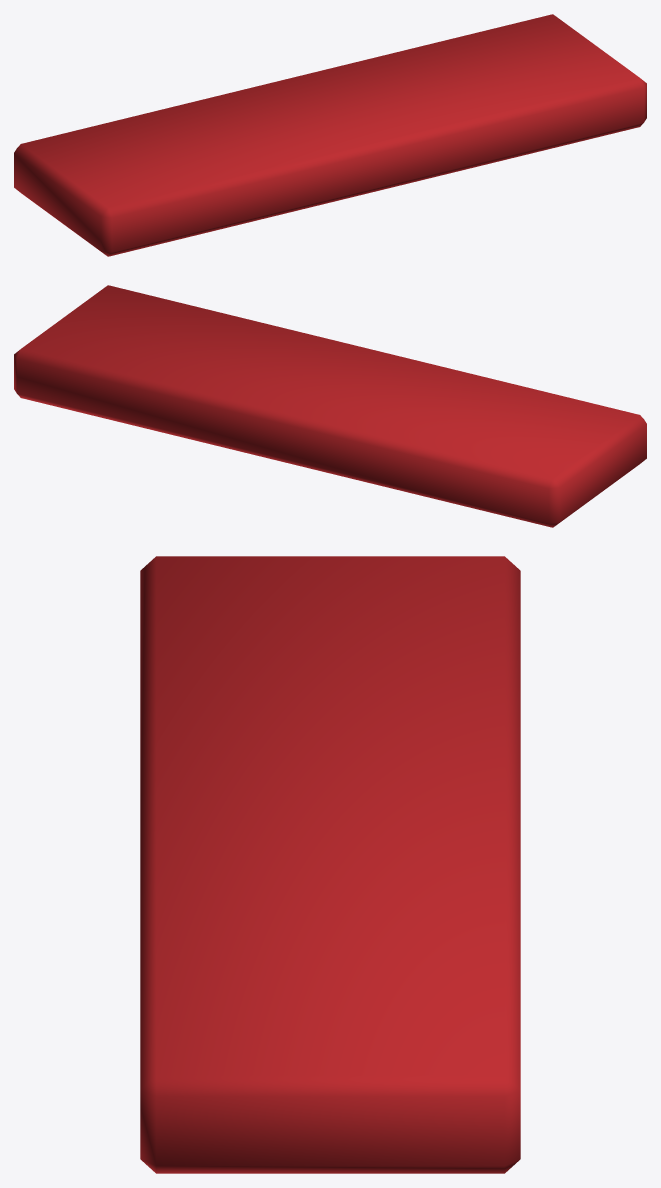
File: Almohadilla Roja.fbx
3 views of the same model, one above another, from view 1: azimuth 30°, elevation 25°; view 2: azimuth 150°, elevation 25°; view 3: azimuth 270°, elevation 25° (orthographic). The views are drawn at different scales.
Visible parts, largest first — view 1: Cube.092; view 2: Cube.092; view 3: Cube.092.
Boxes of the visible parts, box(x1,y1,x2,y2) form: Cube.092: box(14, 14, 646, 256); Cube.092: box(14, 285, 646, 527); Cube.092: box(140, 556, 520, 1173).
Size of the model in its own units: 301 by 25.88 by 90.74.
